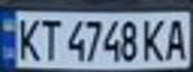4: (63, 16, 87, 62), (103, 16, 124, 62)
7: (81, 16, 106, 62)
8: (118, 17, 142, 63)
A: (160, 15, 193, 62)
K: (12, 15, 42, 62), (139, 16, 169, 63)
T: (36, 16, 63, 62)
